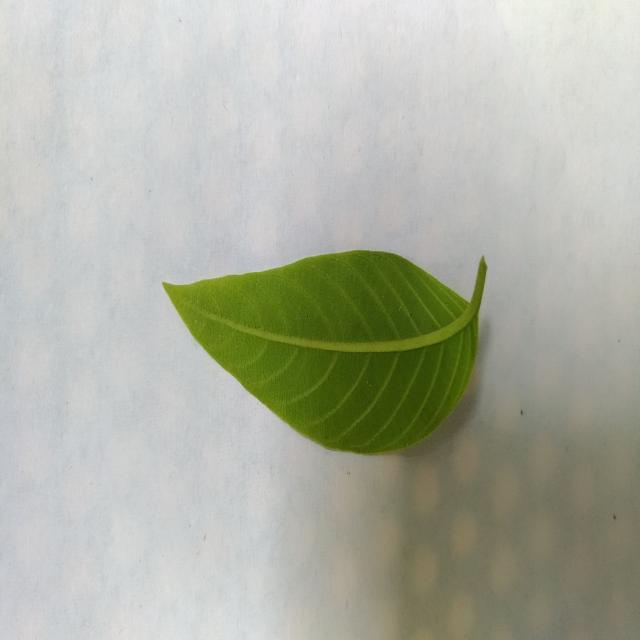seethaashoka: (164, 251, 486, 453)
